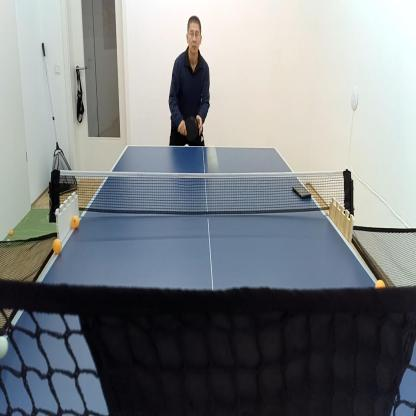Ball: (205, 142, 220, 179), (0, 332, 10, 363), (51, 236, 63, 256), (374, 275, 387, 292), (69, 213, 81, 231), (8, 227, 14, 237), (6, 237, 12, 247)
